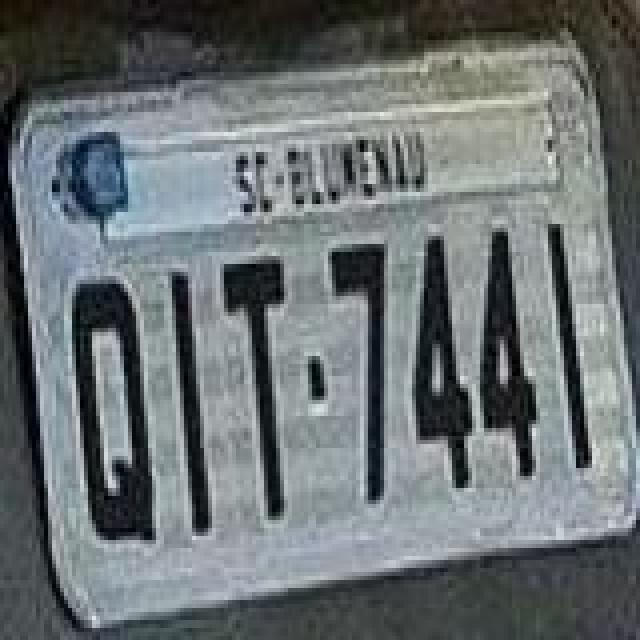1: (544, 218, 592, 470), (170, 264, 214, 536)
4: (412, 232, 476, 488), (478, 230, 538, 482)
7: (330, 240, 390, 504)
Q: (68, 280, 156, 544)
T: (222, 256, 290, 528)
